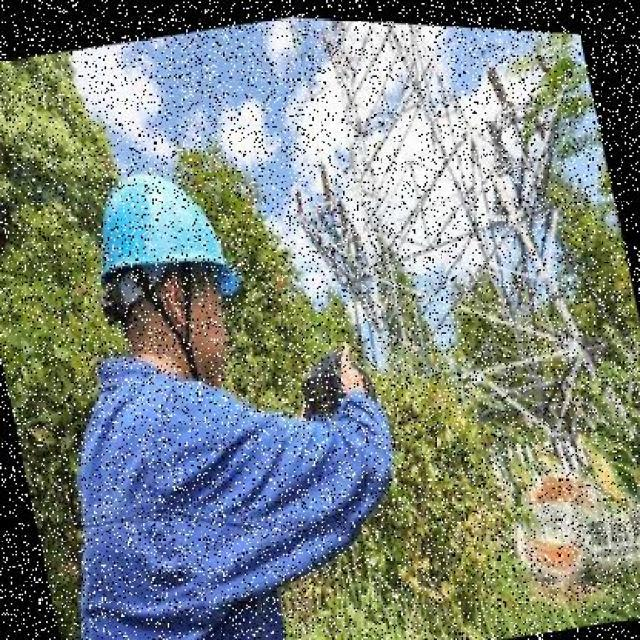helmet: (72, 148, 246, 330)
